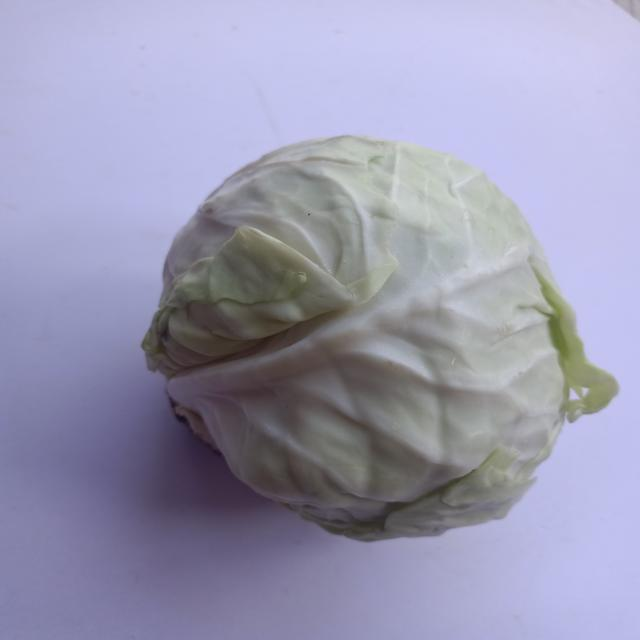Cabbage: (128, 108, 640, 552)
